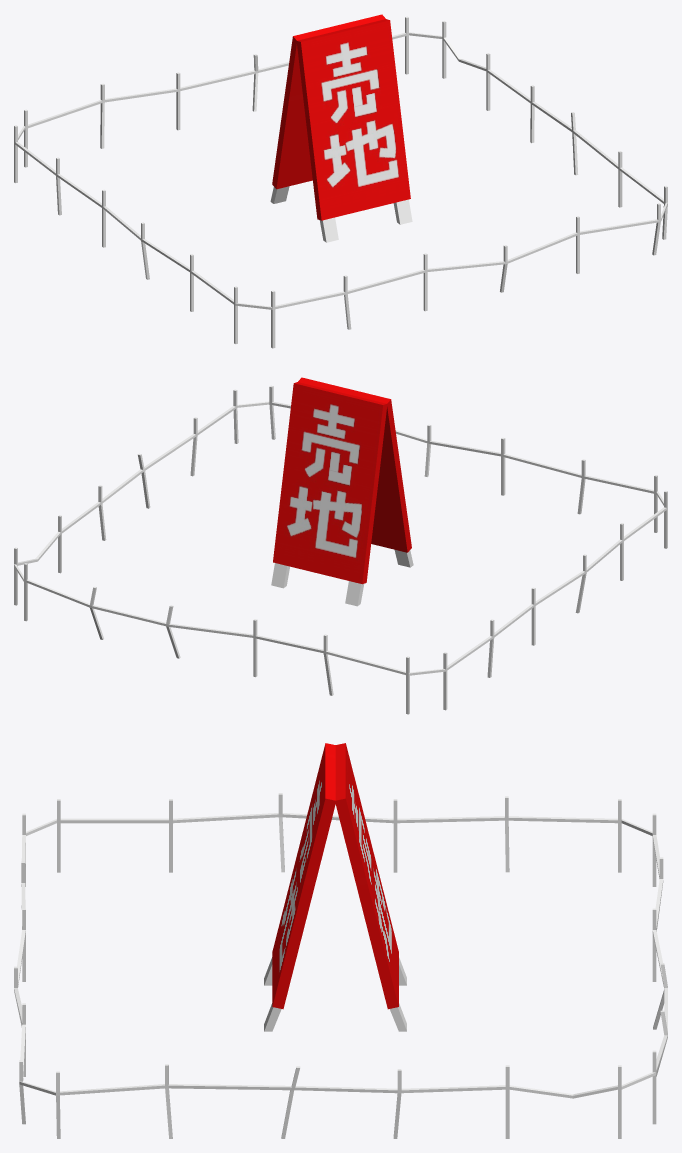
Rendered from emptyArea.fbx.
3 views of the same model, one above another, from view 1: azimuth 30°, elevation 25°; view 2: azimuth 150°, elevation 25°; view 3: azimuth 270°, elevation 25° (orthographic). The views are drawn at different scales.
Visible parts, largest first — view 1: emptyArea; view 2: emptyArea; view 3: emptyArea.
Boxes of the visible parts, bbox=[...] form: emptyArea: bbox=[14, 14, 667, 348]; emptyArea: bbox=[14, 377, 667, 714]; emptyArea: bbox=[14, 743, 667, 1138].
Bounding box in the file's own units: 4275 × 4229 × 1689.
